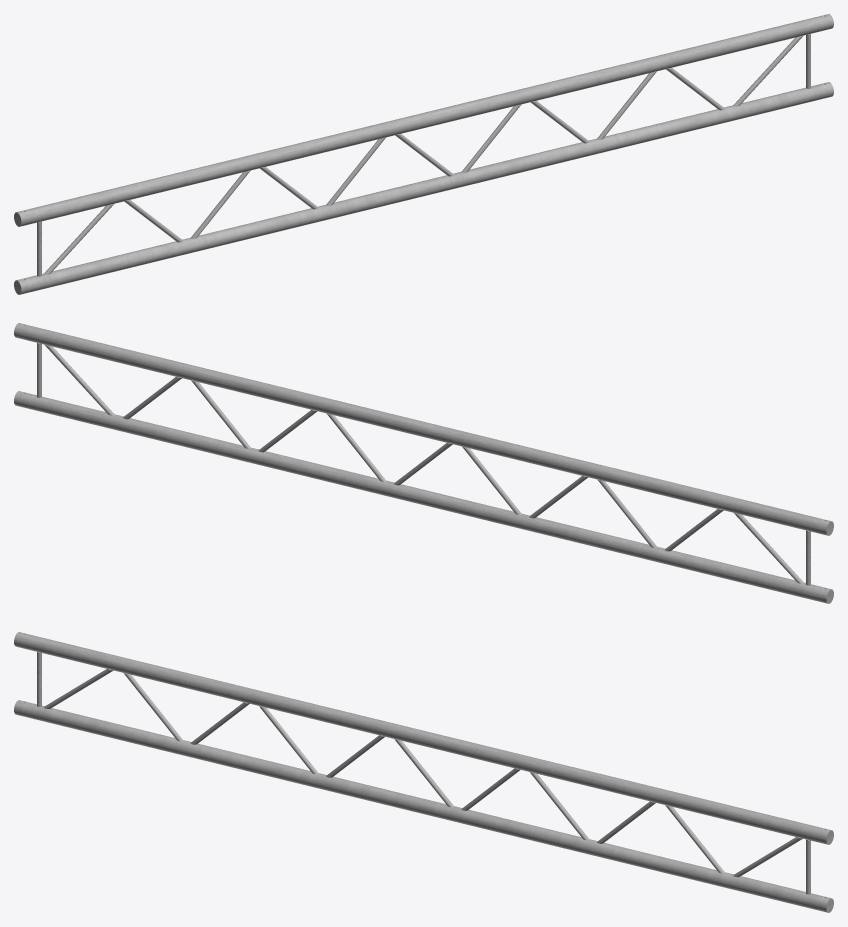
The model's file is Milos_M290V_3000_Duo_Truss_section-b7273224.glb.
The picture shows the model from 3 angles, top to bottom: view 1: azimuth 30°, elevation 25°; view 2: azimuth 150°, elevation 25°; view 3: azimuth 330°, elevation 25°; orthographic projection.
Visible parts, largest first — view 1: Geom3D; view 2: Geom3D; view 3: Geom3D.
Part boxes in pixels (<box>): Geom3D: <box>14,14,833,294</box>; Geom3D: <box>14,323,833,603</box>; Geom3D: <box>14,632,833,912</box>.
Bounding box in the file's own units: 3 × 0.288 × 0.048.
Materials: 2 (1 with a texture image).
